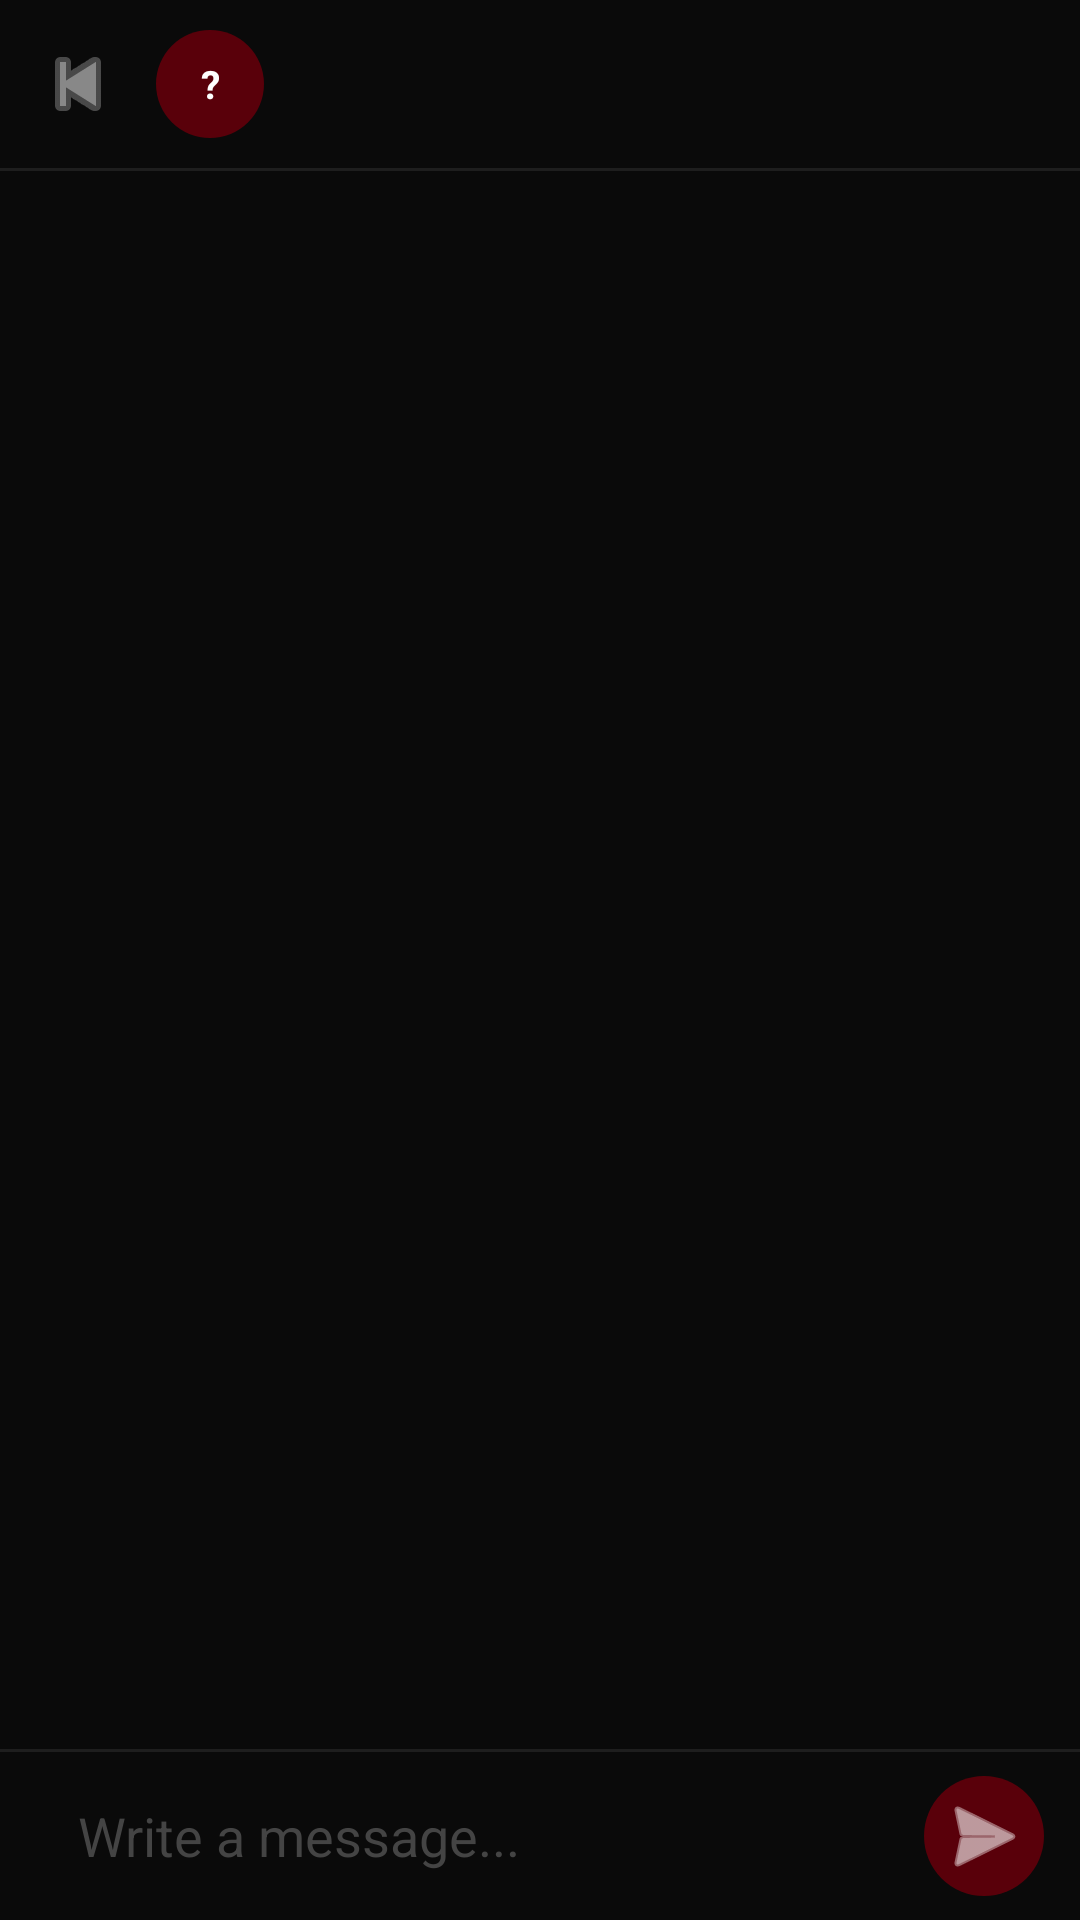

Icon bounding boxes for this 1080px x 1920px phone screenshot, format bbox=[x1, y1, x2, y2]:
previous: bbox=[55, 57, 101, 111]
Send: bbox=[924, 1776, 1044, 1896]
